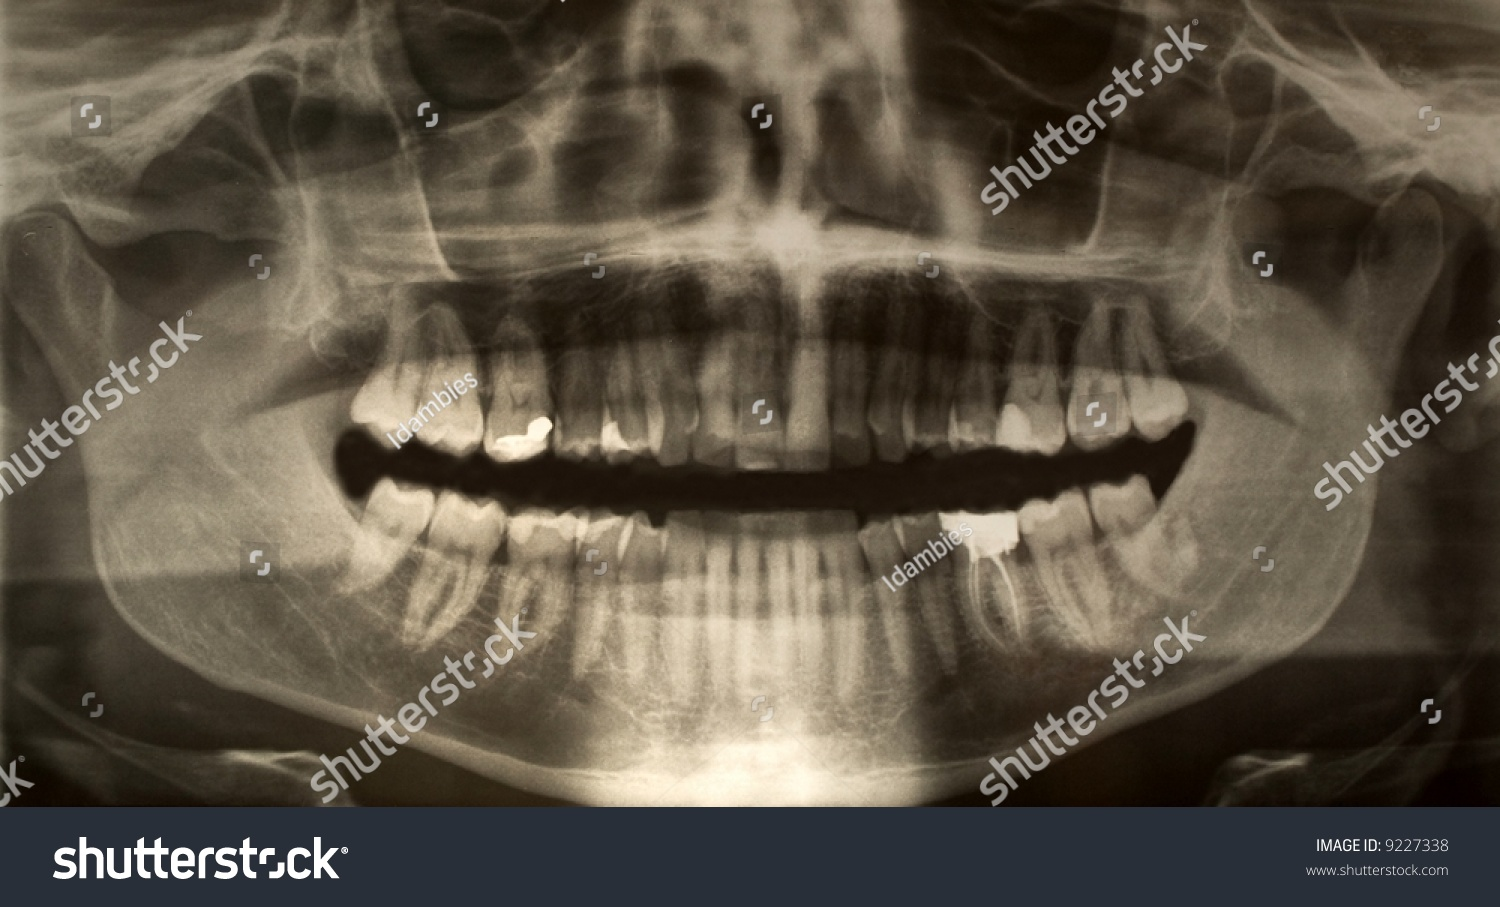canine: (632, 314, 703, 474), (814, 493, 866, 701), (866, 288, 921, 465), (661, 497, 705, 683)
incisor: (778, 303, 835, 474), (732, 318, 786, 474), (689, 320, 742, 478), (826, 298, 873, 471), (699, 495, 736, 681), (754, 501, 795, 659), (730, 498, 766, 671)
molar: (401, 481, 510, 657), (928, 492, 1038, 663), (980, 281, 1072, 473), (496, 488, 590, 670), (331, 464, 442, 604), (1083, 464, 1189, 608), (1012, 484, 1106, 648), (474, 301, 559, 471), (1116, 279, 1196, 448), (343, 296, 426, 454), (1063, 282, 1136, 462), (412, 296, 487, 462)
premolar: (591, 297, 669, 463), (888, 498, 959, 671), (544, 304, 615, 463), (857, 505, 919, 679), (902, 281, 962, 458), (614, 494, 667, 686), (943, 285, 1001, 458), (574, 496, 624, 680), (784, 492, 823, 669)
